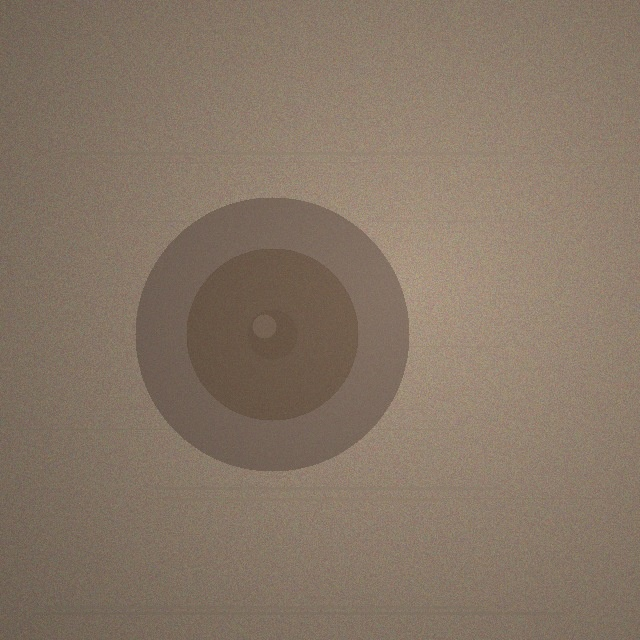good: (135, 197, 409, 471)
